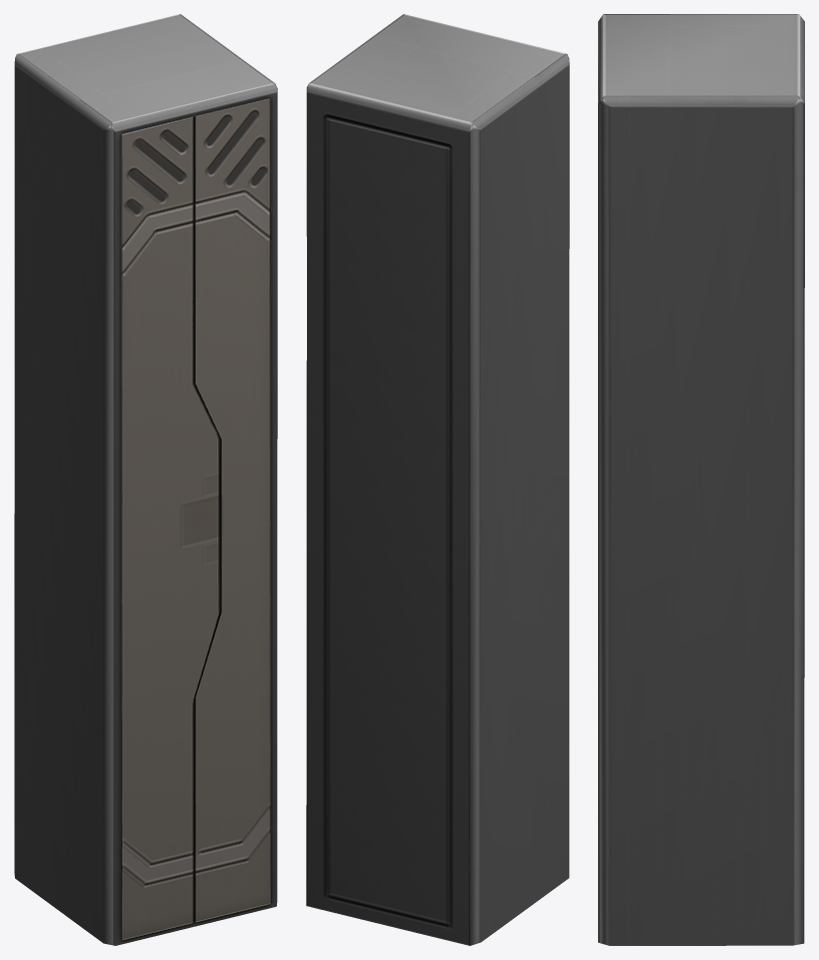
Rendered from Locker.fbx.
3 renders of one model, left to right at view 1: azimuth 30°, elevation 25°; view 2: azimuth 150°, elevation 25°; view 3: azimuth 270°, elevation 25°, orthographic. The views are drawn at different scales.
Parts seen in each view (by area): view 1: Low_Locker:RetopoGroup1; view 2: Low_Locker:RetopoGroup1; view 3: Low_Locker:RetopoGroup1.
Part boxes in pixels (x1,y1,x2,y2): Low_Locker:RetopoGroup1: (14,14,277,945); Low_Locker:RetopoGroup1: (306,14,569,945); Low_Locker:RetopoGroup1: (598,14,804,945).
Size of the model in its own units: 40.23 by 182 by 40.22.
